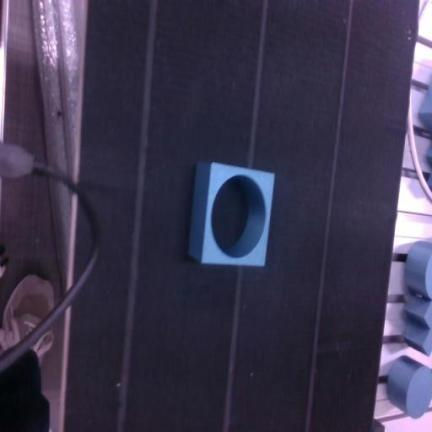square: (189, 163, 274, 266)
